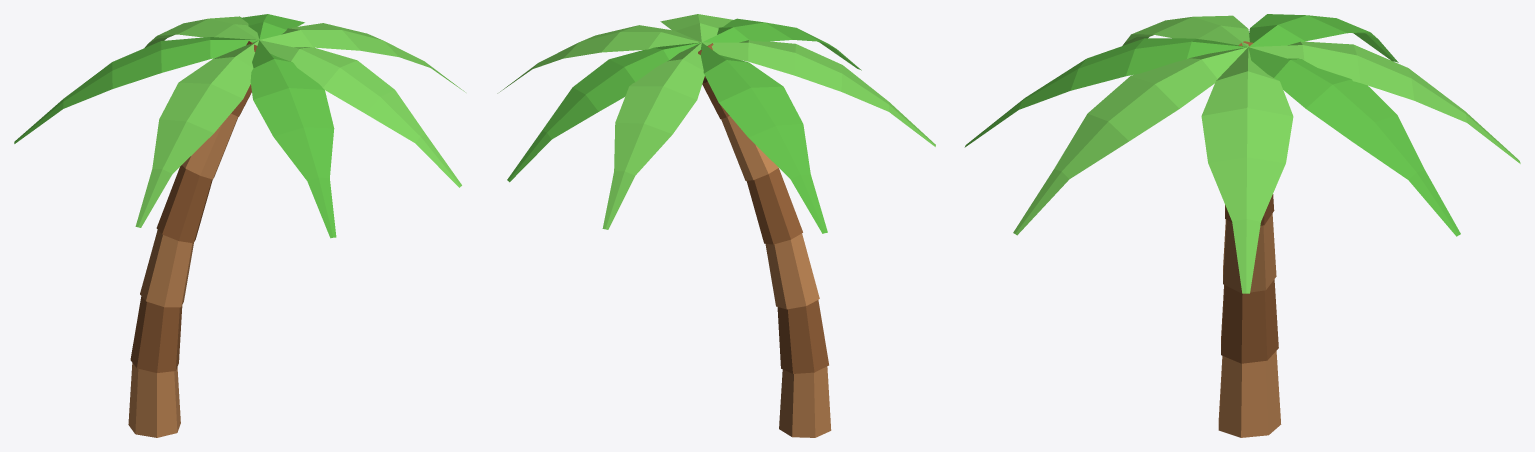
The model's file is palm_b.glb.
The picture shows the model from 3 angles, left to right: view 1: azimuth 30°, elevation 25°; view 2: azimuth 150°, elevation 25°; view 3: azimuth 270°, elevation 25°; orthographic projection. The views are drawn at different scales.
Visible parts, largest first — view 1: palm_b; view 2: palm_b; view 3: palm_b.
Boxes of the visible parts, x1,y1,x2,y2 form: palm_b: (14, 14, 465, 437); palm_b: (497, 14, 935, 437); palm_b: (964, 14, 1520, 437).
Bounding box in the file's own units: 2.85 × 2.51 × 2.88.
